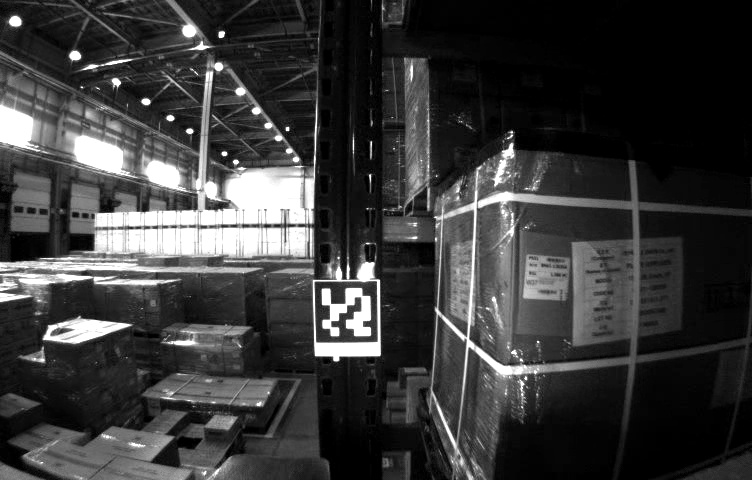True Barcode: (525, 255, 568, 303)
